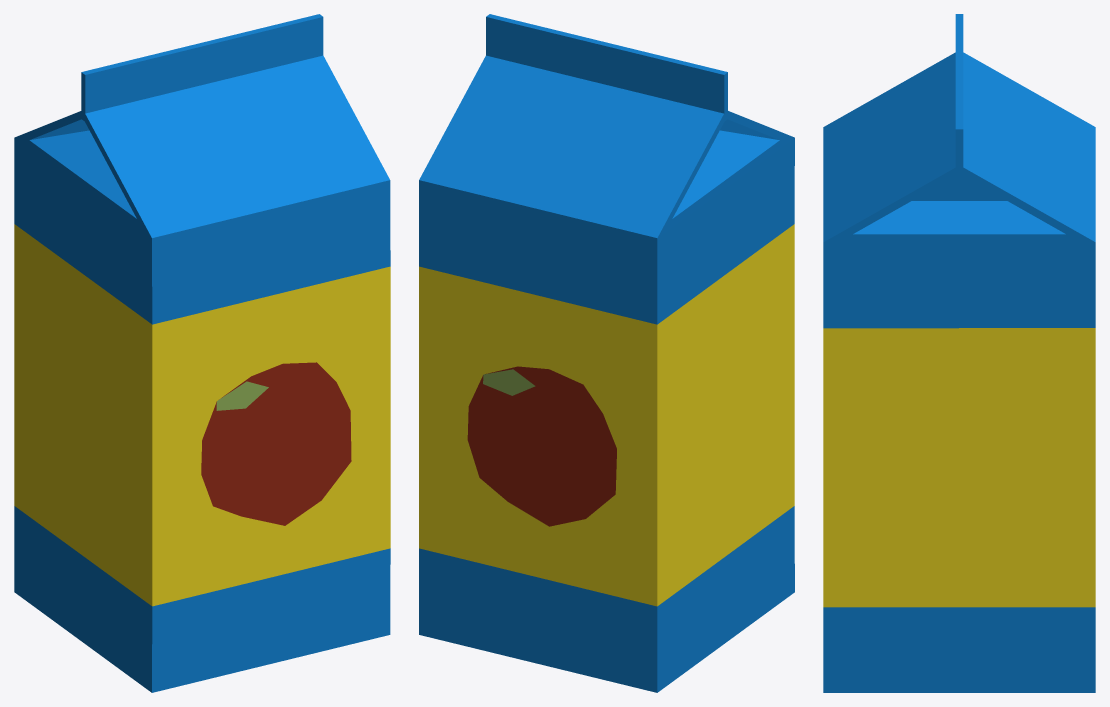
Rendered from Apple Juice Carton.fbx.
The picture shows the model from 3 angles, left to right: view 1: azimuth 30°, elevation 25°; view 2: azimuth 150°, elevation 25°; view 3: azimuth 270°, elevation 25°; orthographic projection.
Visible parts, largest first — view 1: Apple Juice Carton; view 2: Apple Juice Carton; view 3: Apple Juice Carton.
Boxes of the visible parts, <box> form: Apple Juice Carton: <box>14,14,390,692</box>; Apple Juice Carton: <box>419,14,794,692</box>; Apple Juice Carton: <box>823,14,1095,692</box>.
Bounding box in the file's own units: 22.2 × 50.6 × 22.18.
1 material, 1 textured.
